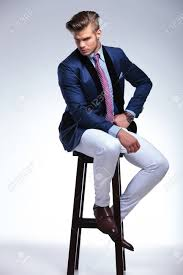sitting: (54, 8, 169, 256)
